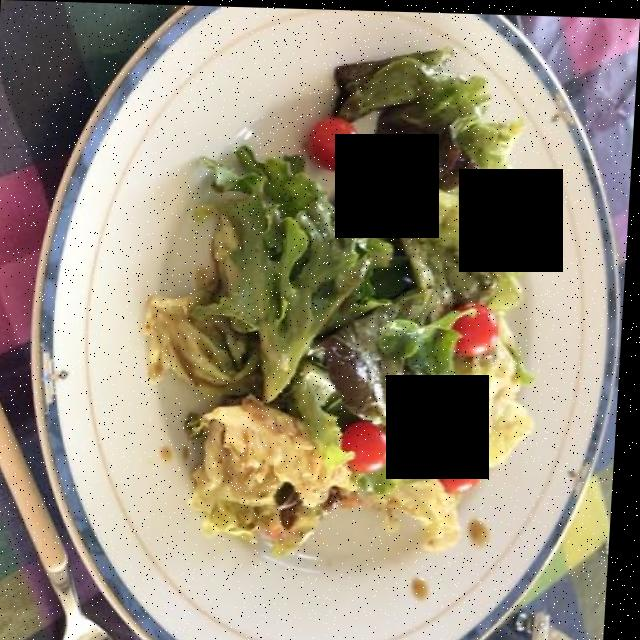salad-leaf-salad-green: (158, 56, 541, 557)
tomato-raw: (327, 195, 500, 492)
